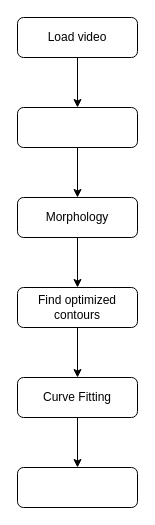
Some shapes in this 155 by 525 pixel diagram are drawn without their labels. Each missing label, with the centre of its shape:
Scoring and Leveling: [77,487]
Threshold: [77,127]
